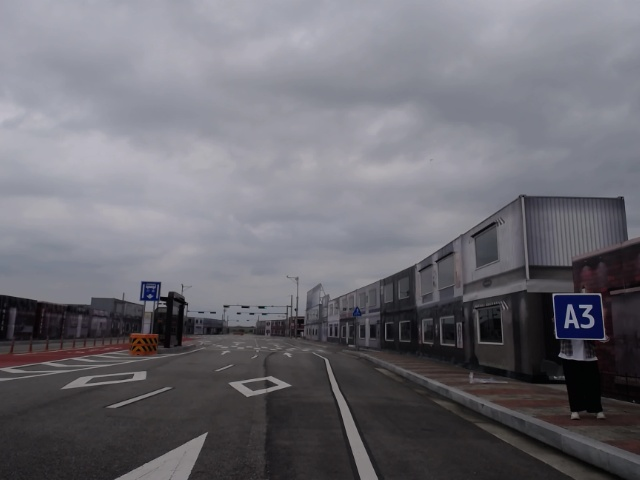delivery_a3: (553, 293, 605, 340)
